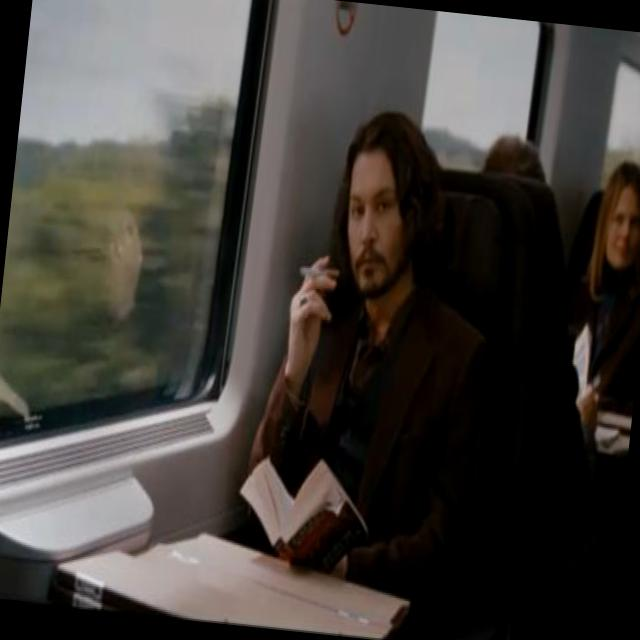smoke: (288, 245, 352, 288)
